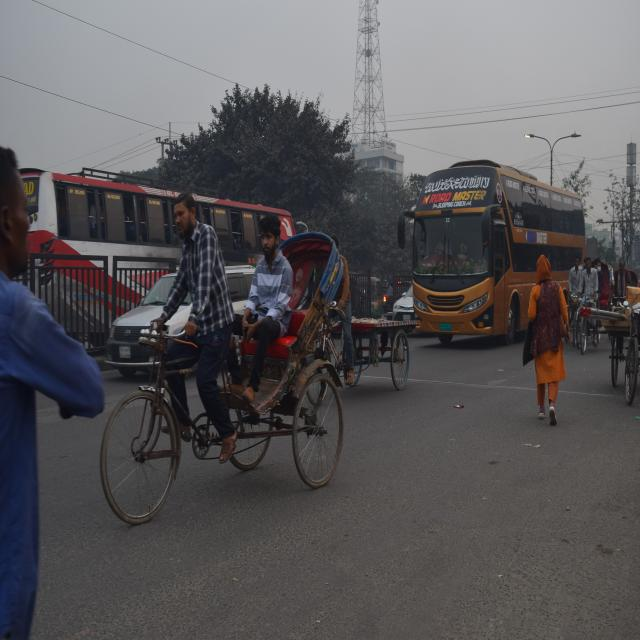bus: (22, 162, 310, 318), (412, 161, 586, 346)
car: (111, 261, 258, 366), (384, 286, 418, 326)
